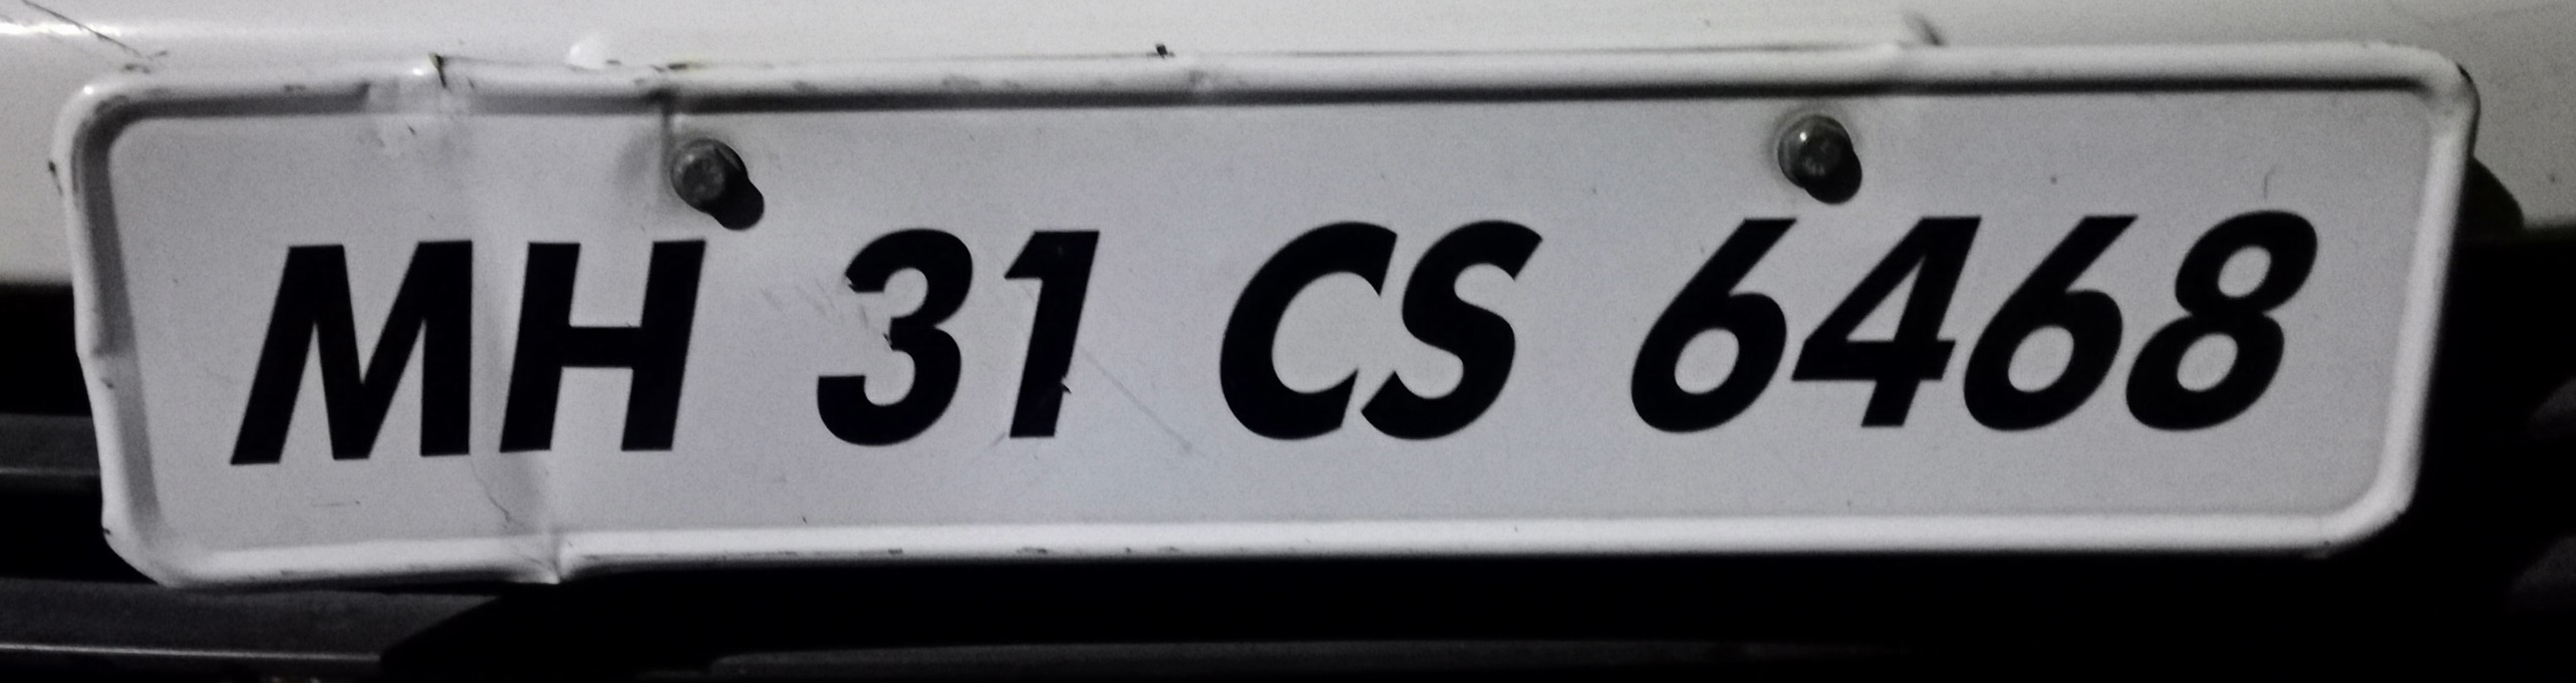numberplate: (62, 46, 2476, 562)
